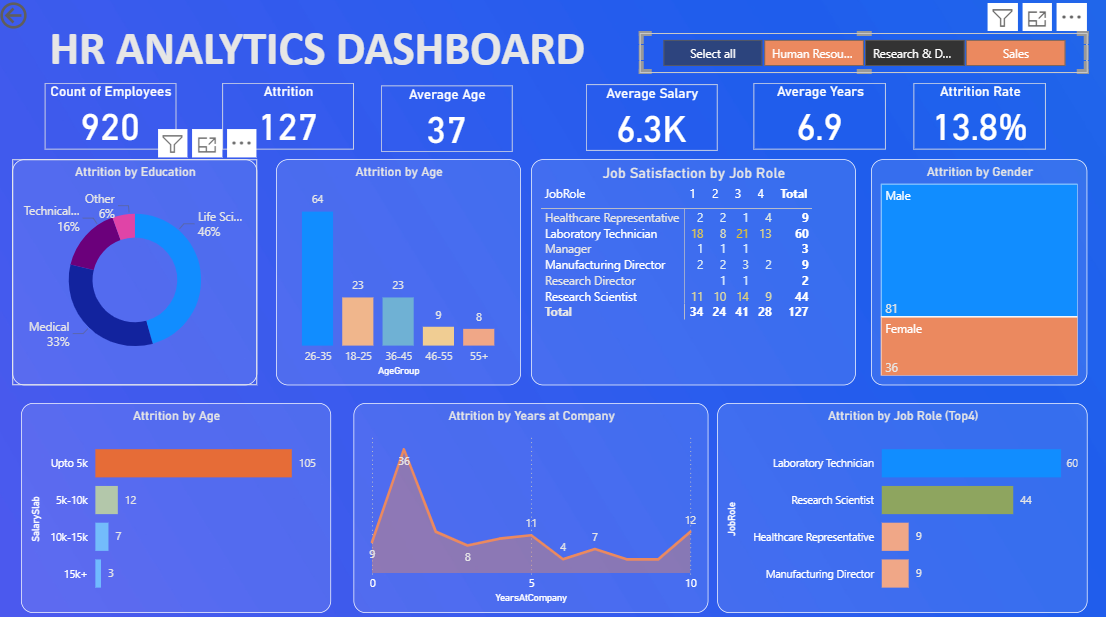

The dashboard page shown, as its layout file describes it:
{"tool":"powerbi","page":{"name":"Page 1","canvas":[1280,720],"ordinal":0},"visuals":[{"type":"card","title":"Count of Employees","fields":{"Values":["CountNonNull(HR_Analytics.EmpID)"]},"box":[55.7,97.1,150,75.7],"z":0},{"type":"actionButton","box":[0,0,100,40],"z":1000},{"type":"card","title":"Attrition","fields":{"Values":["CountNonNull(HR_Analytics.AttritionCount)"]},"box":[258.6,97.1,150,75.7],"z":2000},{"type":"card","title":"Average Age","fields":{"Values":["Avg(HR_Analytics.Age)"]},"box":[440,100,150,75.7],"z":3000},{"type":"card","title":"Average Salary","fields":{"Values":["Avg(HR_Analytics.MonthlyIncome)"]},"box":[674.3,98.6,150,75.7],"z":4000},{"type":"card","title":"Average Years","fields":{"Values":["Avg(HR_Analytics.YearsAtCompany)"]},"box":[865.7,97.1,151.4,75.7],"z":5000},{"type":"card","title":"Attrition Rate","fields":{"Values":["HR_Analytics.AttritionRate"]},"box":[1048.6,97.1,151.4,75.7],"z":6000},{"type":"donutChart","title":"Attrition by Education","fields":{"Category":["HR_Analytics.EducationField"],"Y":["Sum(HR_Analytics.AttritionCount)"]},"box":[18.6,184.3,280,258.6],"z":7000},{"type":"columnChart","title":"Attrition by Age","fields":{"Category":["HR_Analytics.AgeGroup"],"Y":["Sum(HR_Analytics.AttritionCount)"]},"box":[320,184.3,280,258.6],"z":8000},{"type":"pivotTable","title":"Job Satisfaction by Job Role","fields":{"Columns":["HR_Analytics.JobSatisfaction"],"Values":["Sum(HR_Analytics.AttritionCount)"],"Rows":["HR_Analytics.JobRole"]},"box":[611.4,184.3,371.4,258.6],"z":9000},{"type":"barChart","title":"Attrition by Age","fields":{"Category":["HR_Analytics.SalarySlab"],"Y":["Sum(HR_Analytics.AttritionCount)"]},"box":[28.6,462.9,354.3,240],"z":10000},{"type":"barChart","title":"Attrition by Job Role (Top4)","fields":{"Category":["HR_Analytics.JobRole"],"Y":["Sum(HR_Analytics.AttritionCount)"]},"box":[824.3,462.9,422.9,240],"z":11000},{"type":"areaChart","title":"Attrition by Years at Company","fields":{"Category":["HR_Analytics.YearsAtCompany"],"Y":["Sum(HR_Analytics.AttritionCount)"]},"box":[408.6,462.9,405.7,240],"z":12000},{"type":"treemap","title":"Attrition by Gender","fields":{"Group":["HR_Analytics.Gender"],"Values":["Sum(HR_Analytics.AttritionCount)"]},"box":[1000,184.3,247.1,258.6],"z":13000},{"type":"slicer","fields":{"Values":["HR_Analytics.Department"]},"box":[735.7,40,511.4,45.7],"z":14000},{"type":"textbox","box":[28.6,20,677.1,77.1],"z":15000}]}

Visuals, with their boxes in screenshot pixels (x1, y1, x2, y2):
"Count of Employees" card: 43 79 174 145
actionButton: 0 0 82 29
"Attrition" card: 221 79 352 145
"Average Age" card: 379 82 511 148
"Average Salary" card: 584 81 716 147
"Average Years" card: 752 79 884 145
"Attrition Rate" card: 912 79 1045 145
"Attrition by Education" donutChart: 11 156 256 382
"Attrition by Age" columnChart: 274 156 519 382
"Job Satisfaction by Job Role" pivotTable: 529 156 854 382
"Attrition by Age" barChart: 19 399 329 609
"Attrition by Job Role (Top4)" barChart: 716 399 1086 609
"Attrition by Years at Company" areaChart: 352 399 707 609
"Attrition by Gender" treemap: 869 156 1086 382
slicer - HR_Analytics.Department: 638 29 1086 69
textbox: 19 12 612 79
